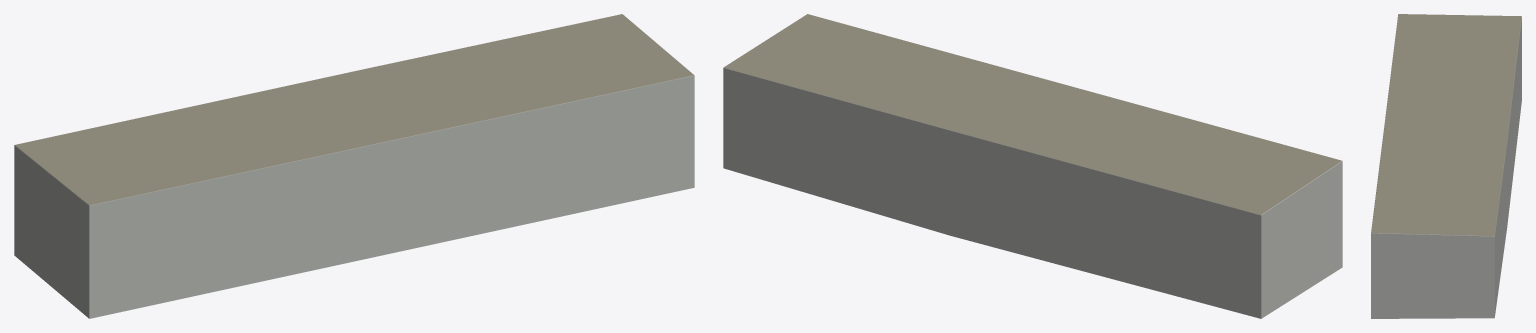
File: fragments.glb
3 renders of one model, left to right at view 1: azimuth 30°, elevation 25°; view 2: azimuth 150°, elevation 25°; view 3: azimuth 270°, elevation 25°, orthographic. The views are drawn at different scales.
Visible parts, largest first — view 1: SM_liberal_Fragment_006, SM_liberal_Fragment_009, SM_liberal_Fragment_017, SM_liberal_Fragment_030, SM_liberal_Fragment_035, SM_liberal_Fragment_062, SM_liberal_Fragment_029, SM_liberal_Fragment_019, SM_liberal_Fragment_015, SM_liberal_Fragment_011, SM_liberal_Fragment_008, SM_liberal_Fragment_005 (+30 smaller); view 2: SM_liberal_Fragment_004, SM_liberal_Fragment_001, SM_liberal_Fragment_025, SM_liberal_Fragment_039, SM_liberal_Fragment_031, SM_liberal_Fragment_038, SM_liberal_Fragment_041, SM_liberal_Fragment_034, SM_liberal_Fragment_007, SM_liberal_Fragment_014, SM_liberal_Fragment_018, SM_liberal_Fragment_063 (+30 smaller); view 3: SM_liberal_Fragment_040, SM_liberal_Fragment_037, SM_liberal_Fragment_028, SM_liberal_Fragment_005, SM_liberal_Fragment_002, SM_liberal_Fragment_024, SM_liberal_Fragment_014, SM_liberal_Fragment_016, SM_liberal_Fragment_021, SM_liberal_Fragment_048, SM_liberal_Fragment_033, SM_liberal_Fragment_009 (+27 smaller).
Part boxes in pixels (x1,y1,x2,y2): SM_liberal_Fragment_006: (94, 238, 210, 313); SM_liberal_Fragment_009: (321, 111, 418, 209); SM_liberal_Fragment_017: (399, 103, 504, 189); SM_liberal_Fragment_030: (551, 67, 649, 156); SM_liberal_Fragment_035: (110, 169, 212, 242); SM_liberal_Fragment_062: (213, 142, 296, 246); SM_liberal_Fragment_029: (370, 168, 460, 257); SM_liberal_Fragment_019: (57, 181, 128, 277); SM_liberal_Fragment_015: (562, 139, 652, 212); SM_liberal_Fragment_011: (182, 154, 247, 282); SM_liberal_Fragment_008: (489, 79, 575, 164); SM_liberal_Fragment_005: (639, 62, 694, 157); SM_liberal_Fragment_004: (918, 124, 1008, 218); SM_liberal_Fragment_001: (1221, 192, 1292, 284); SM_liberal_Fragment_025: (1178, 251, 1284, 318); SM_liberal_Fragment_039: (1042, 148, 1129, 219); SM_liberal_Fragment_031: (1166, 174, 1245, 254); SM_liberal_Fragment_038: (865, 140, 930, 224); SM_liberal_Fragment_041: (965, 186, 1045, 260); SM_liberal_Fragment_034: (1108, 223, 1179, 296); SM_liberal_Fragment_007: (1108, 161, 1190, 239); SM_liberal_Fragment_014: (1002, 113, 1095, 184); SM_liberal_Fragment_018: (1044, 205, 1109, 277); SM_liberal_Fragment_063: (727, 66, 803, 133); SM_liberal_Fragment_040: (1392, 212, 1452, 275); SM_liberal_Fragment_037: (1396, 274, 1466, 318); SM_liberal_Fragment_028: (1439, 216, 1495, 271); SM_liberal_Fragment_005: (1371, 216, 1409, 286); SM_liberal_Fragment_002: (1450, 258, 1496, 318); SM_liberal_Fragment_024: (1421, 130, 1506, 167); SM_liberal_Fragment_014: (1431, 94, 1511, 138); SM_liberal_Fragment_016: (1415, 183, 1487, 217); SM_liberal_Fragment_021: (1420, 29, 1482, 60); SM_liberal_Fragment_048: (1427, 60, 1491, 89); SM_liberal_Fragment_033: (1446, 156, 1505, 196); SM_liberal_Fragment_009: (1383, 108, 1440, 135).
Bounding box in the file's own units: 2.2 × 0.4002 × 0.631.
